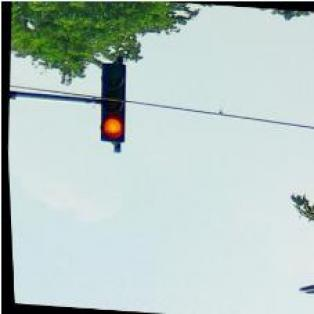Semaforo Rojo: (94, 62, 127, 142)
